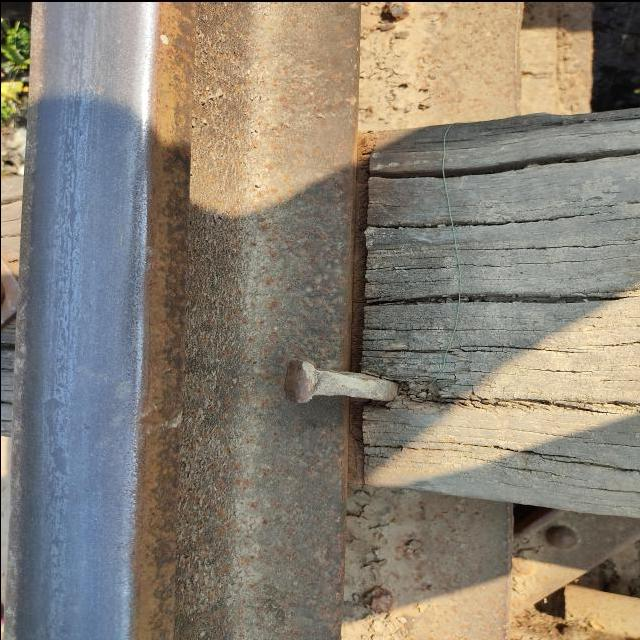broken_rail_medium: (80, 420, 90, 428)
